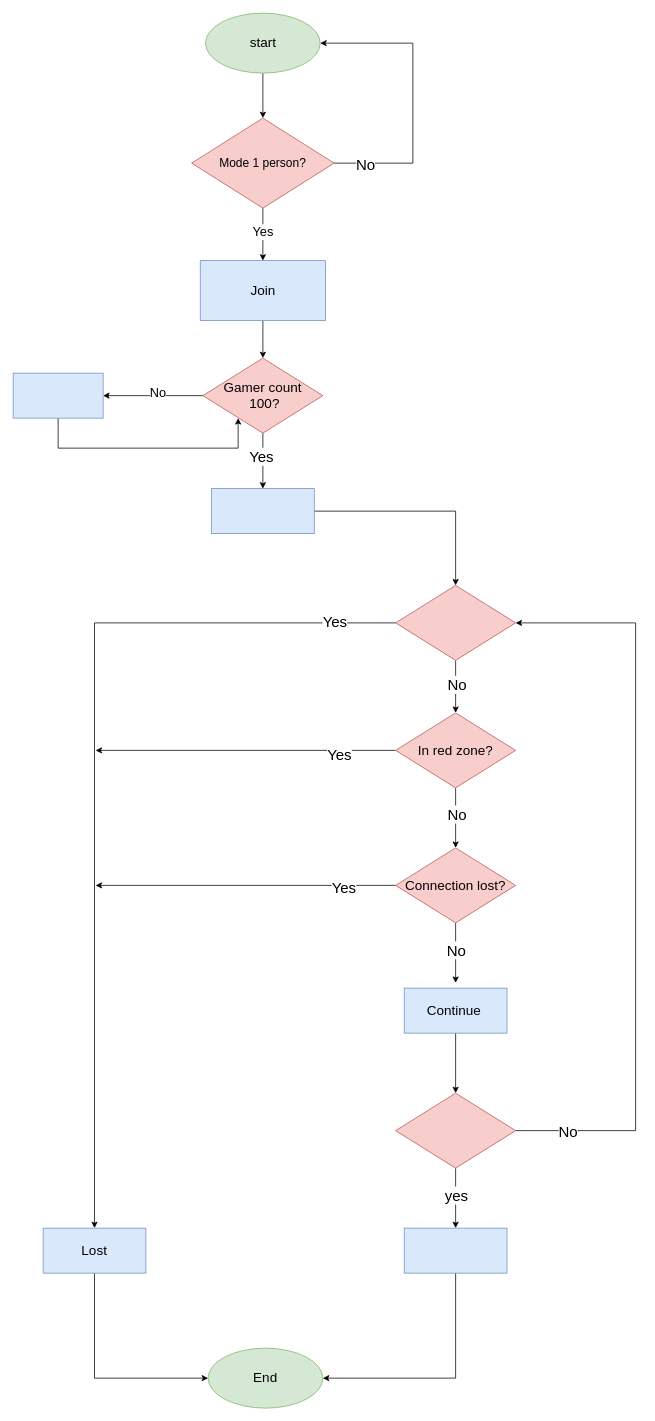
Image size: 655x1421. Some labels were removed from this diagram. The shapes that lost their labels are listed below. From the top down, each one's centre as x and y in pixels, then its label:
the point at 57,395: Wait
the point at 262,511: Start the Game
the point at 455,622: Killed?
the point at 455,1130: The only gamer?
the point at 455,1250: Won
